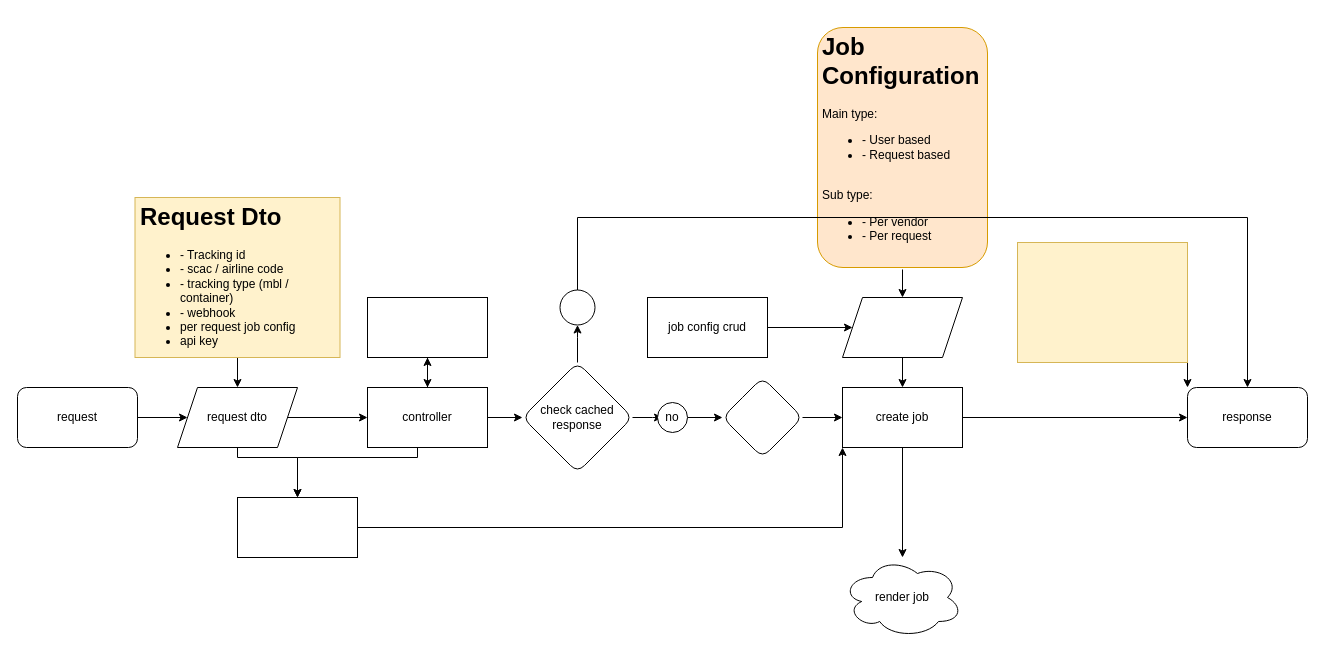
Some shapes in this 1325 by 655 pixel diagram are drawn without their labels. The shapes that lost their labels are listed below. From the top down, each one's centre as x and y in pixels, then its label:
At (577,307): "yes".
At (1102,302): "Response data (if available) process id error".
At (427,327): "user service".
At (902,327): "configuration".
At (762,417): "vendor selector".
At (297,527): "tracking data service (request scope)".
